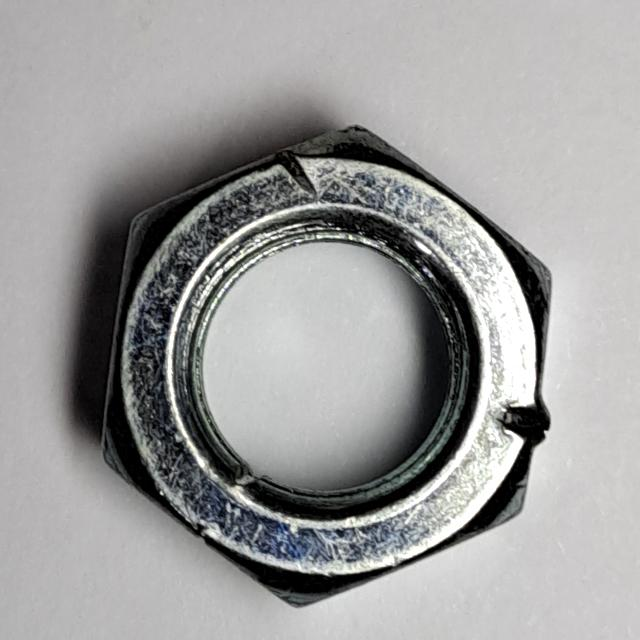Scratches: (94, 115, 577, 620)
